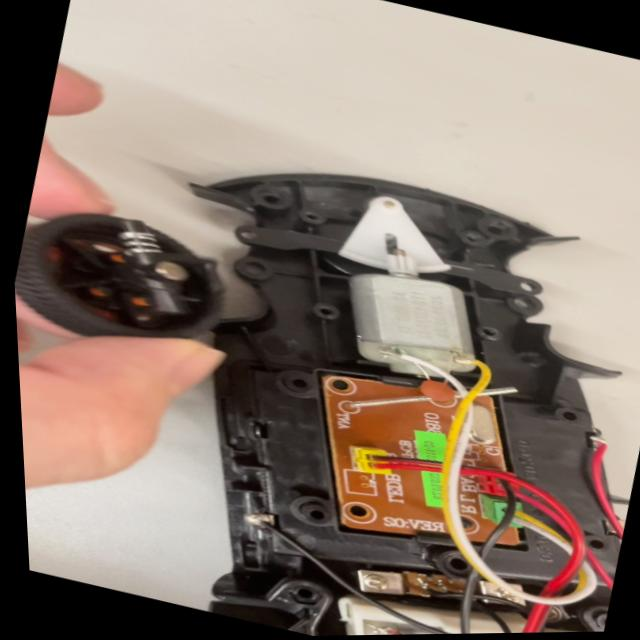motor: (325, 234, 508, 397)
wheel: (10, 183, 246, 361)
